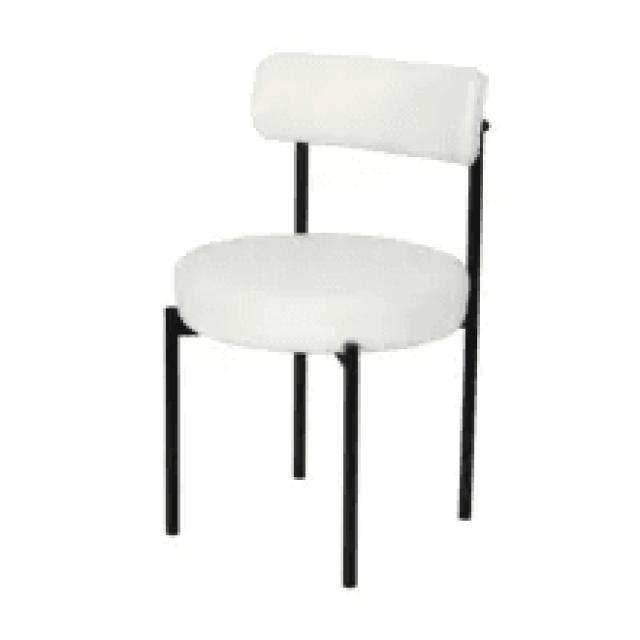chair: (158, 44, 496, 588), (170, 46, 491, 352)
